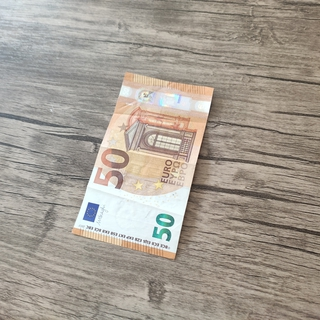50EUROFront: (69, 70, 214, 261)
